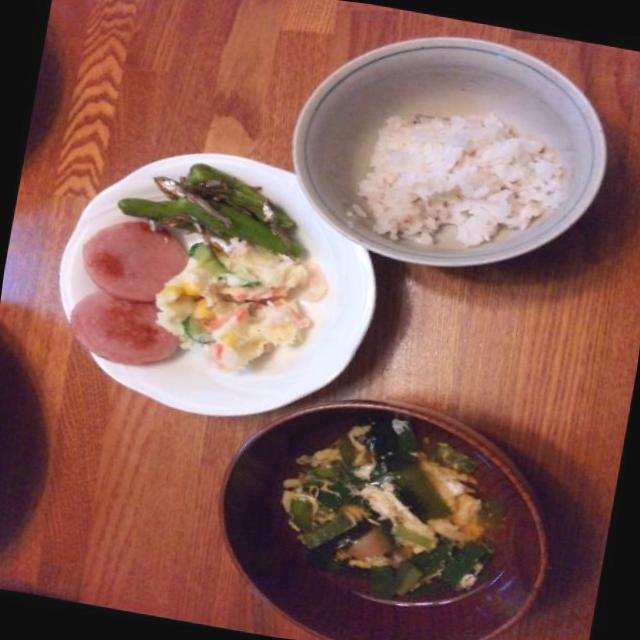Rice: (342, 79, 570, 270)
